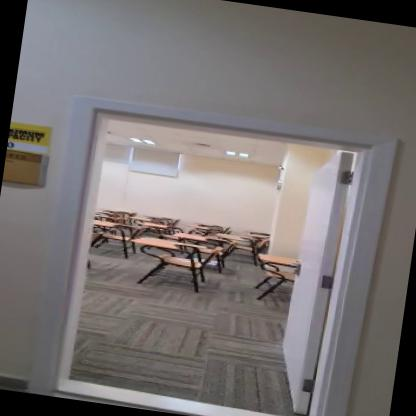open: (26, 72, 395, 415)
